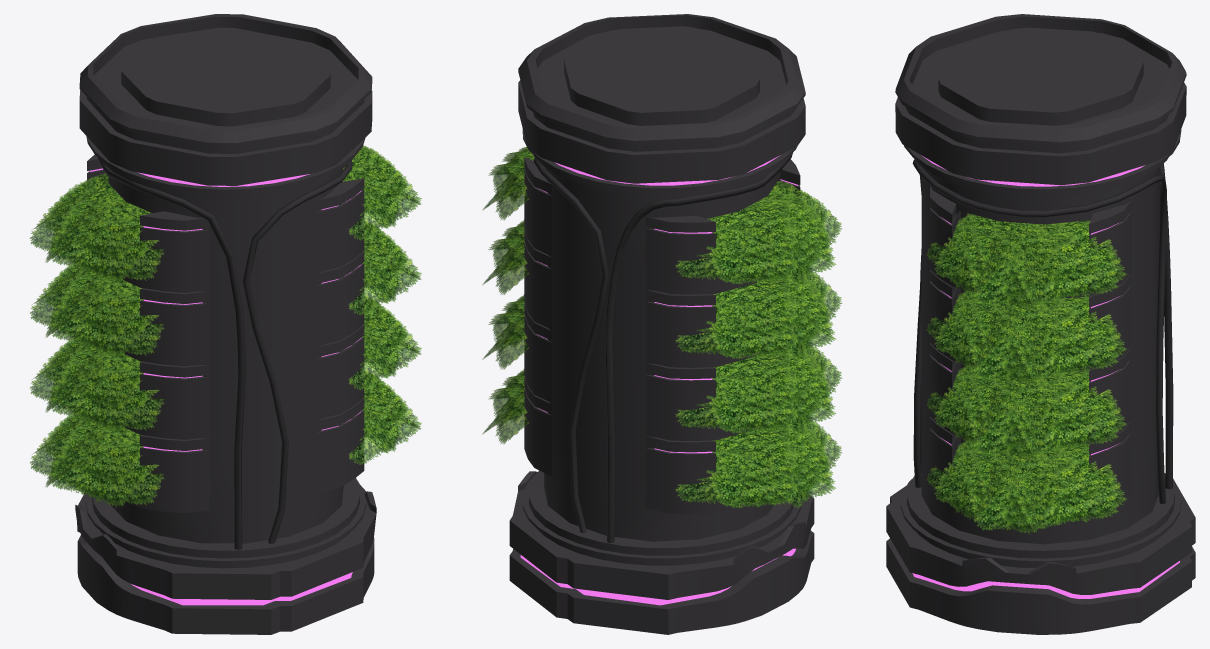
File: garden_cylinder_01.glb
3 views of the same model, side by side, from view 1: azimuth 30°, elevation 25°; view 2: azimuth 150°, elevation 25°; view 3: azimuth 270°, elevation 25° (orthographic).
Visible parts, largest first — view 1: garden_cylinder_01; view 2: garden_cylinder_01; view 3: garden_cylinder_01.
Boxes of the visible parts, left/top/right/bottom form: garden_cylinder_01: left=29, top=14, right=421, bottom=634; garden_cylinder_01: left=482, top=14, right=842, bottom=634; garden_cylinder_01: left=886, top=14, right=1195, bottom=634.
Bounding box in the file's own units: 2.91 × 3.68 × 2.05.
4 materials, 1 textured.
